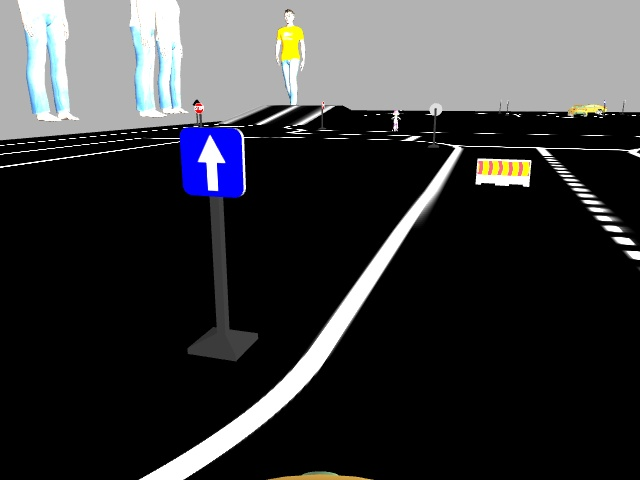ClosedRoadStand: (476, 159, 529, 184)
OneWay: (180, 127, 247, 193)
